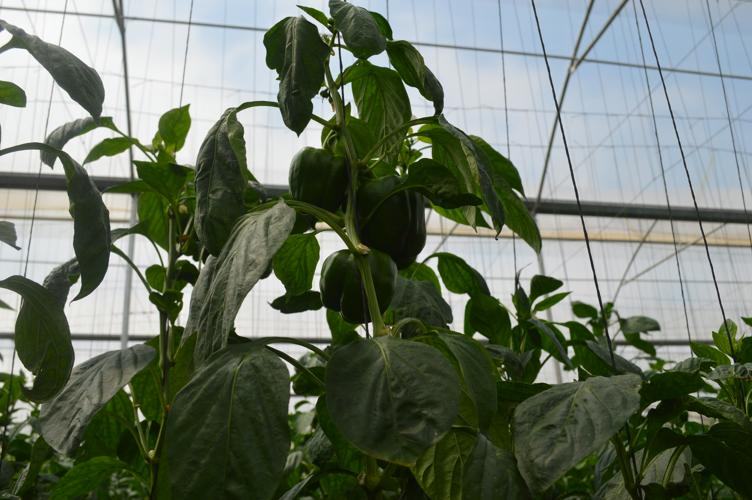BellPepper: (354, 176, 426, 268), (320, 249, 399, 326), (288, 147, 346, 218)
